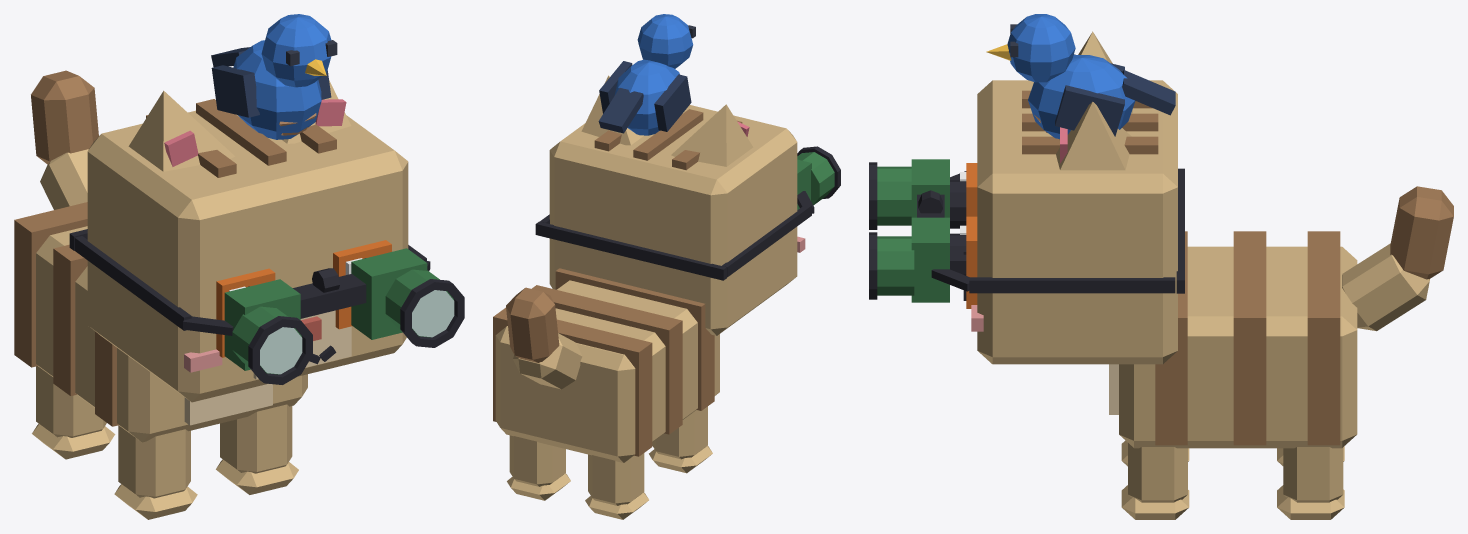
File: CatCafe_Cat_Birdwatch.fbx
3 renders of one model, left to right at view 1: azimuth 30°, elevation 25°; view 2: azimuth 150°, elevation 25°; view 3: azimuth 270°, elevation 25°, orthographic. The views are drawn at different scales.
Parts seen in each view (by area): view 1: CatCafe_Cat_Birdwatch_Head, CatCafe_Cat_Birdwatch_Body, CatCafe_Cat_Birdwatch_Prop, CatCafe_Cat_Birdwatch_Prop2, CatCafe_Cat_Birdwatch_Tail, CatCafe_Cat_Birdwatch_LegF2, CatCafe_Cat_Birdwatch_LegF1, CatCafe_Cat_Birdwatch_LegB2, CatCafe_Cat_Birdwatch_EarR, CatCafe_Cat_Birdwatch_Prop_Glass, CatCafe_Cat_Birdwatch_Eye1, CatCafe_Cat_Birdwatch_Eye2 (+1 smaller); view 2: CatCafe_Cat_Birdwatch_Head, CatCafe_Cat_Birdwatch_Body, CatCafe_Cat_Birdwatch_Prop2, CatCafe_Cat_Birdwatch_Prop, CatCafe_Cat_Birdwatch_Tail, CatCafe_Cat_Birdwatch_LegB2, CatCafe_Cat_Birdwatch_LegB1, CatCafe_Cat_Birdwatch_EarR, CatCafe_Cat_Birdwatch_LegF2, CatCafe_Cat_Birdwatch_EarL; view 3: CatCafe_Cat_Birdwatch_Head, CatCafe_Cat_Birdwatch_Body, CatCafe_Cat_Birdwatch_Prop, CatCafe_Cat_Birdwatch_Prop2, CatCafe_Cat_Birdwatch_Tail, CatCafe_Cat_Birdwatch_LegB1, CatCafe_Cat_Birdwatch_LegF1, CatCafe_Cat_Birdwatch_EarL, CatCafe_Cat_Birdwatch_Eye1, CatCafe_Cat_Birdwatch_Eye2.
Boxes of the visible parts, x1,y1,x2,y2 form: CatCafe_Cat_Birdwatch_Head: (87,99,408,402); CatCafe_Cat_Birdwatch_Body: (14,202,307,442); CatCafe_Cat_Birdwatch_Prop: (69,229,464,384); CatCafe_Cat_Birdwatch_Prop2: (211,14,337,139); CatCafe_Cat_Birdwatch_Tail: (31,70,98,209); CatCafe_Cat_Birdwatch_LegF2: (114,425,197,519); CatCafe_Cat_Birdwatch_LegF1: (216,404,298,494); CatCafe_Cat_Birdwatch_LegB2: (32,366,115,459); CatCafe_Cat_Birdwatch_EarR: (128,90,234,171); CatCafe_Cat_Birdwatch_Prop_Glass: (260,290,454,374); CatCafe_Cat_Birdwatch_Eye1: (333,240,391,329); CatCafe_Cat_Birdwatch_Eye2: (216,268,275,357); CatCafe_Cat_Birdwatch_Head: (549,105,805,335); CatCafe_Cat_Birdwatch_Body: (493,268,719,462); CatCafe_Cat_Birdwatch_Prop2: (598,14,695,135); CatCafe_Cat_Birdwatch_Prop: (535,146,840,280); CatCafe_Cat_Birdwatch_Tail: (506,287,582,389); CatCafe_Cat_Birdwatch_LegB2: (585,453,648,519); CatCafe_Cat_Birdwatch_LegB1: (507,435,570,500); CatCafe_Cat_Birdwatch_EarR: (671,104,753,166); CatCafe_Cat_Birdwatch_LegF2: (649,406,712,473); CatCafe_Cat_Birdwatch_EarL: (581,75,643,145); CatCafe_Cat_Birdwatch_Head: (971,80,1177,364); CatCafe_Cat_Birdwatch_Body: (1109,231,1357,448); CatCafe_Cat_Birdwatch_Prop: (869,159,1184,302); CatCafe_Cat_Birdwatch_Prop2: (986,14,1175,138); CatCafe_Cat_Birdwatch_Tail: (1342,186,1453,331); CatCafe_Cat_Birdwatch_LegB1: (1277,447,1344,519); CatCafe_Cat_Birdwatch_LegF1: (1121,443,1189,519); CatCafe_Cat_Birdwatch_EarL: (1056,101,1131,170); CatCafe_Cat_Birdwatch_Eye1: (960,216,977,308); CatCafe_Cat_Birdwatch_Eye2: (960,163,977,216).
Size of the model in its own units: 1.07 by 2.14 by 2.33.
1 material, 1 textured.
